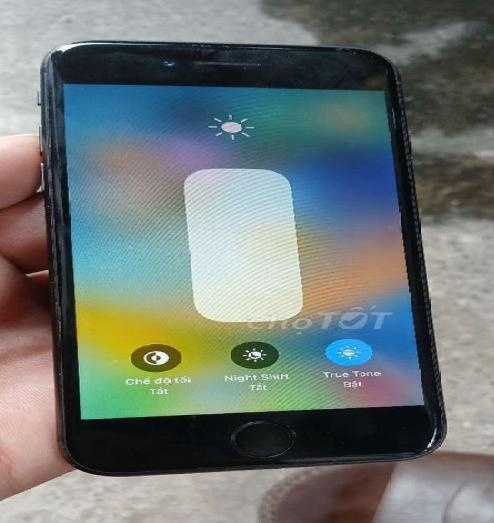scratch: (21, 65, 92, 458), (149, 35, 397, 74), (279, 444, 428, 469), (371, 98, 422, 162), (413, 417, 454, 453)
